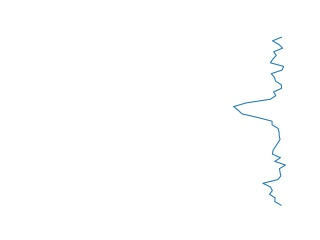interdistributaryEstuary: (230, 37, 291, 208)
